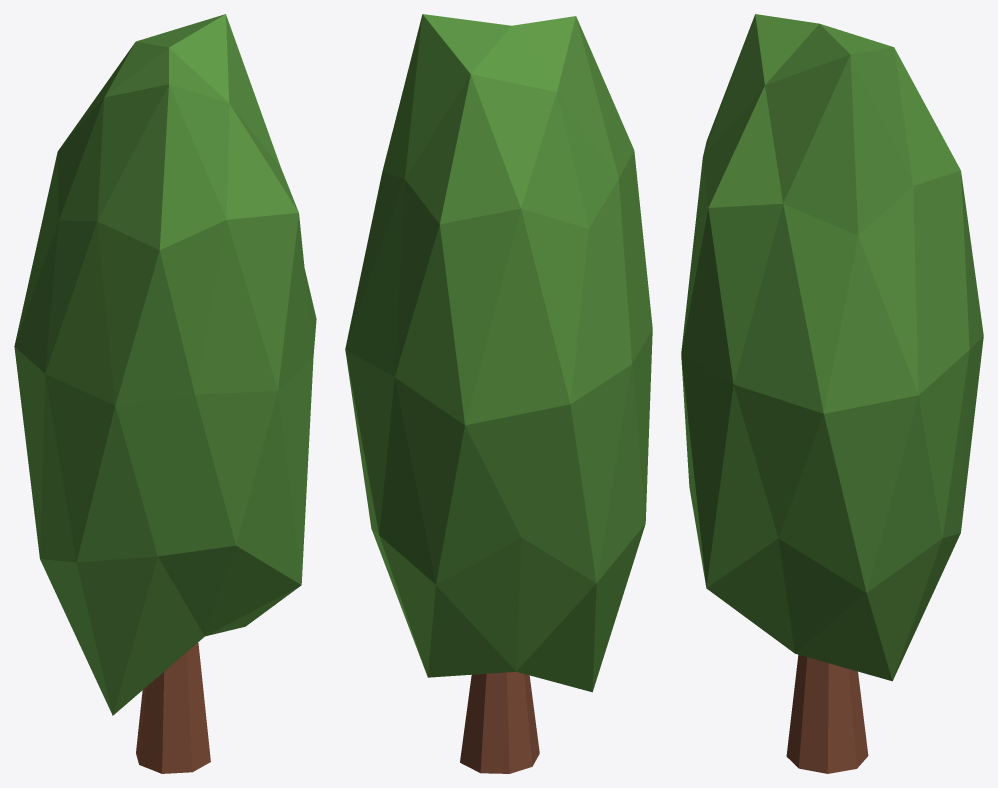
File: Tree_05_summer_mat.fbx
3 renders of one model, left to right at view 1: azimuth 30°, elevation 25°; view 2: azimuth 150°, elevation 25°; view 3: azimuth 270°, elevation 25°, orthographic. The views are drawn at different scales.
Parts seen in each view (by area): view 1: Tree_05_summer_mat; view 2: Tree_05_summer_mat; view 3: Tree_05_summer_mat.
Boxes of the visible parts, bbox=[...] form: Tree_05_summer_mat: bbox=[14, 14, 316, 773]; Tree_05_summer_mat: bbox=[345, 14, 652, 773]; Tree_05_summer_mat: bbox=[681, 14, 983, 773].
Size of the model in its own units: 4.18 by 10.63 by 3.97.
